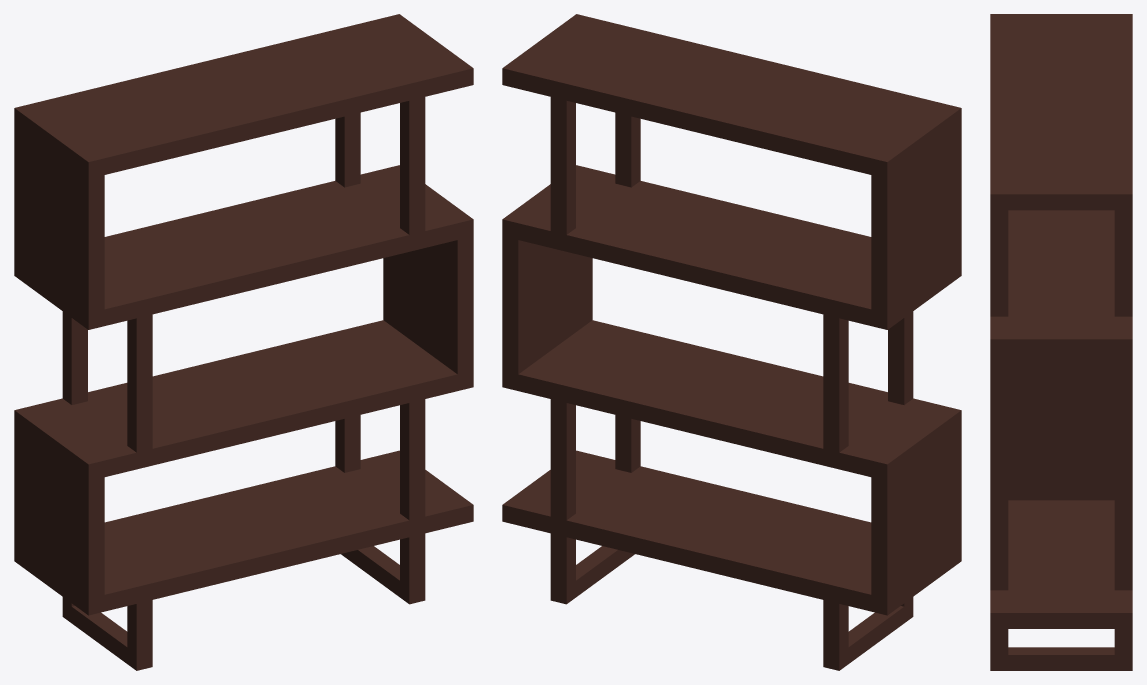
Rendered from shelf.glb.
The picture shows the model from 3 angles, left to right: view 1: azimuth 30°, elevation 25°; view 2: azimuth 150°, elevation 25°; view 3: azimuth 270°, elevation 25°; orthographic projection. The views are drawn at different scales.
Parts seen in each view (by area): view 1: model; view 2: model; view 3: model.
Boxes of the visible parts, x1,y1,x2,y2 form: model: [14, 14, 473, 670]; model: [502, 14, 961, 670]; model: [990, 14, 1132, 670].
Bounding box in the file's own units: 2.4 × 3.1 × 0.8.
